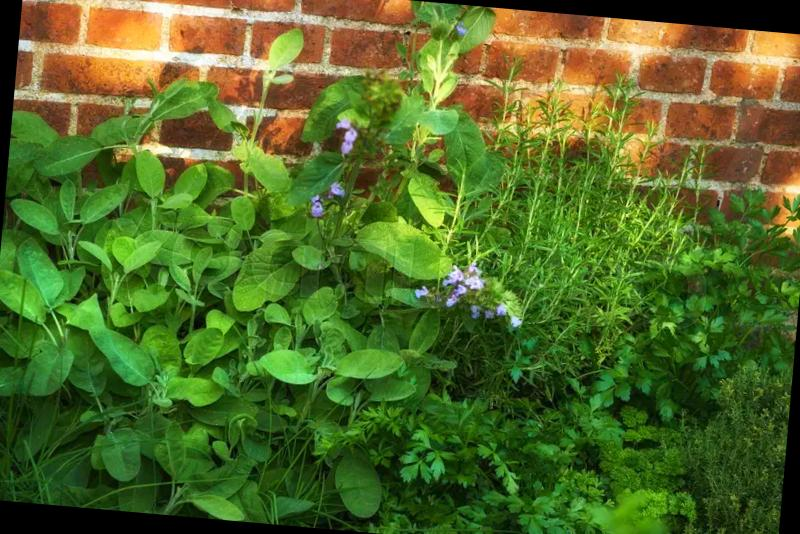overgrown grass: (314, 79, 800, 534)
